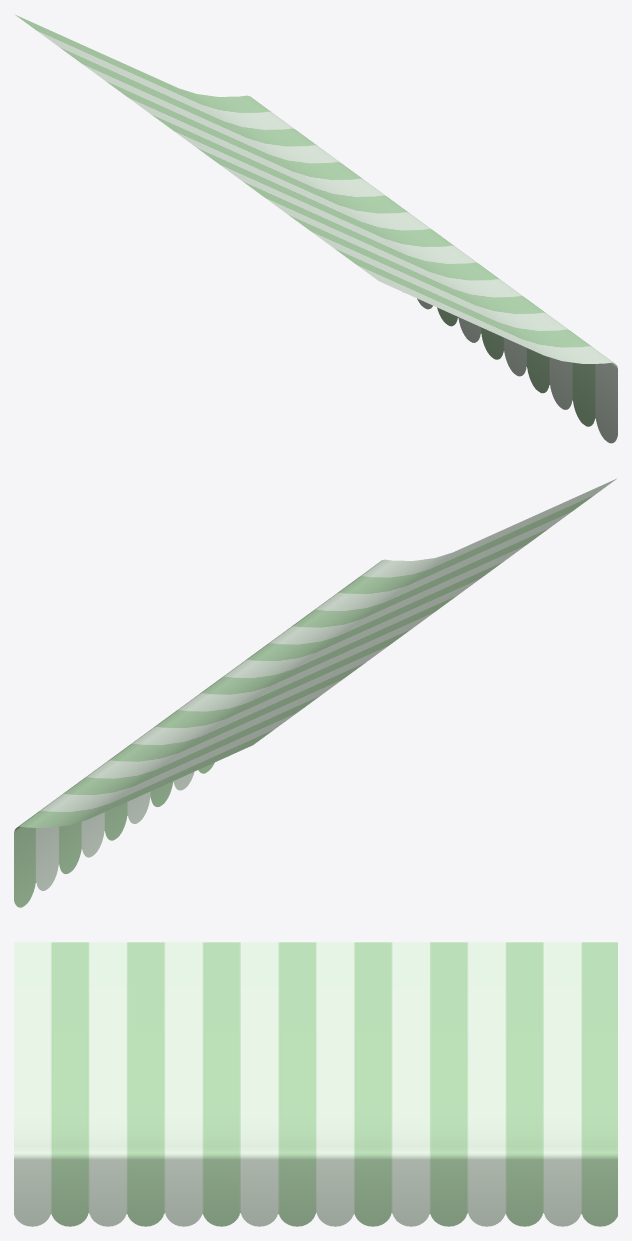
The model's file is AwningTransparent.glb.
The picture shows the model from 3 angles, top to bottom: view 1: azimuth 30°, elevation 25°; view 2: azimuth 150°, elevation 25°; view 3: azimuth 270°, elevation 25°; orthographic projection. The views are drawn at different scales.
Visible parts, largest first — view 1: RetractableAwningsTransp; view 2: RetractableAwningsTransp; view 3: RetractableAwningsTransp.
Part boxes in pixels (x1,y1,x2,y2): RetractableAwningsTransp: [15, 14, 617, 443]; RetractableAwningsTransp: [14, 478, 616, 907]; RetractableAwningsTransp: [14, 942, 617, 1226].
Bounding box in the file's own units: 2.47 × 2.24 × 6.54.
Materials: 1 (1 with a texture image).
